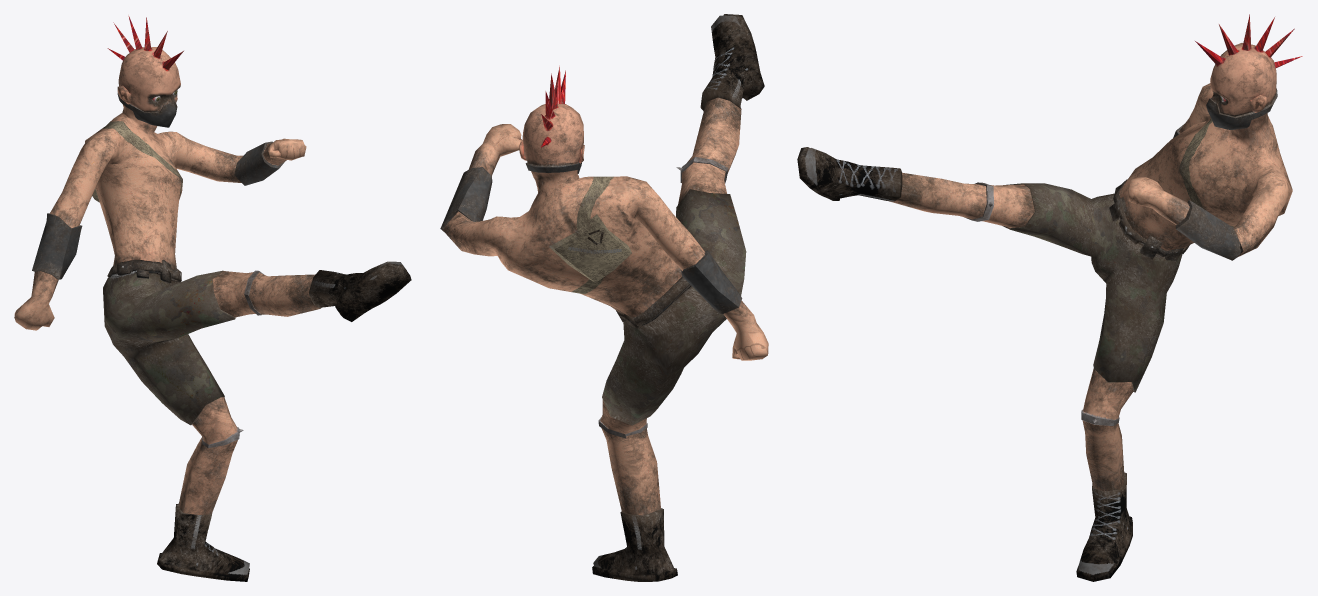
Rendered from Anim_ataque_f2_npc2.0018.obj.
3 renders of one model, left to right at view 1: azimuth 30°, elevation 25°; view 2: azimuth 150°, elevation 25°; view 3: azimuth 270°, elevation 25°, orthographic. The views are drawn at different scales.
Visible parts, largest first — view 1: polySurface1; view 2: polySurface1; view 3: polySurface1.
Boxes of the visible parts, x1,y1,x2,y2 form: polySurface1: (14,15,411,581); polySurface1: (440,14,768,581); polySurface1: (797,14,1302,581).
Size of the model in its own units: 5.24 by 9.36 by 7.77.
